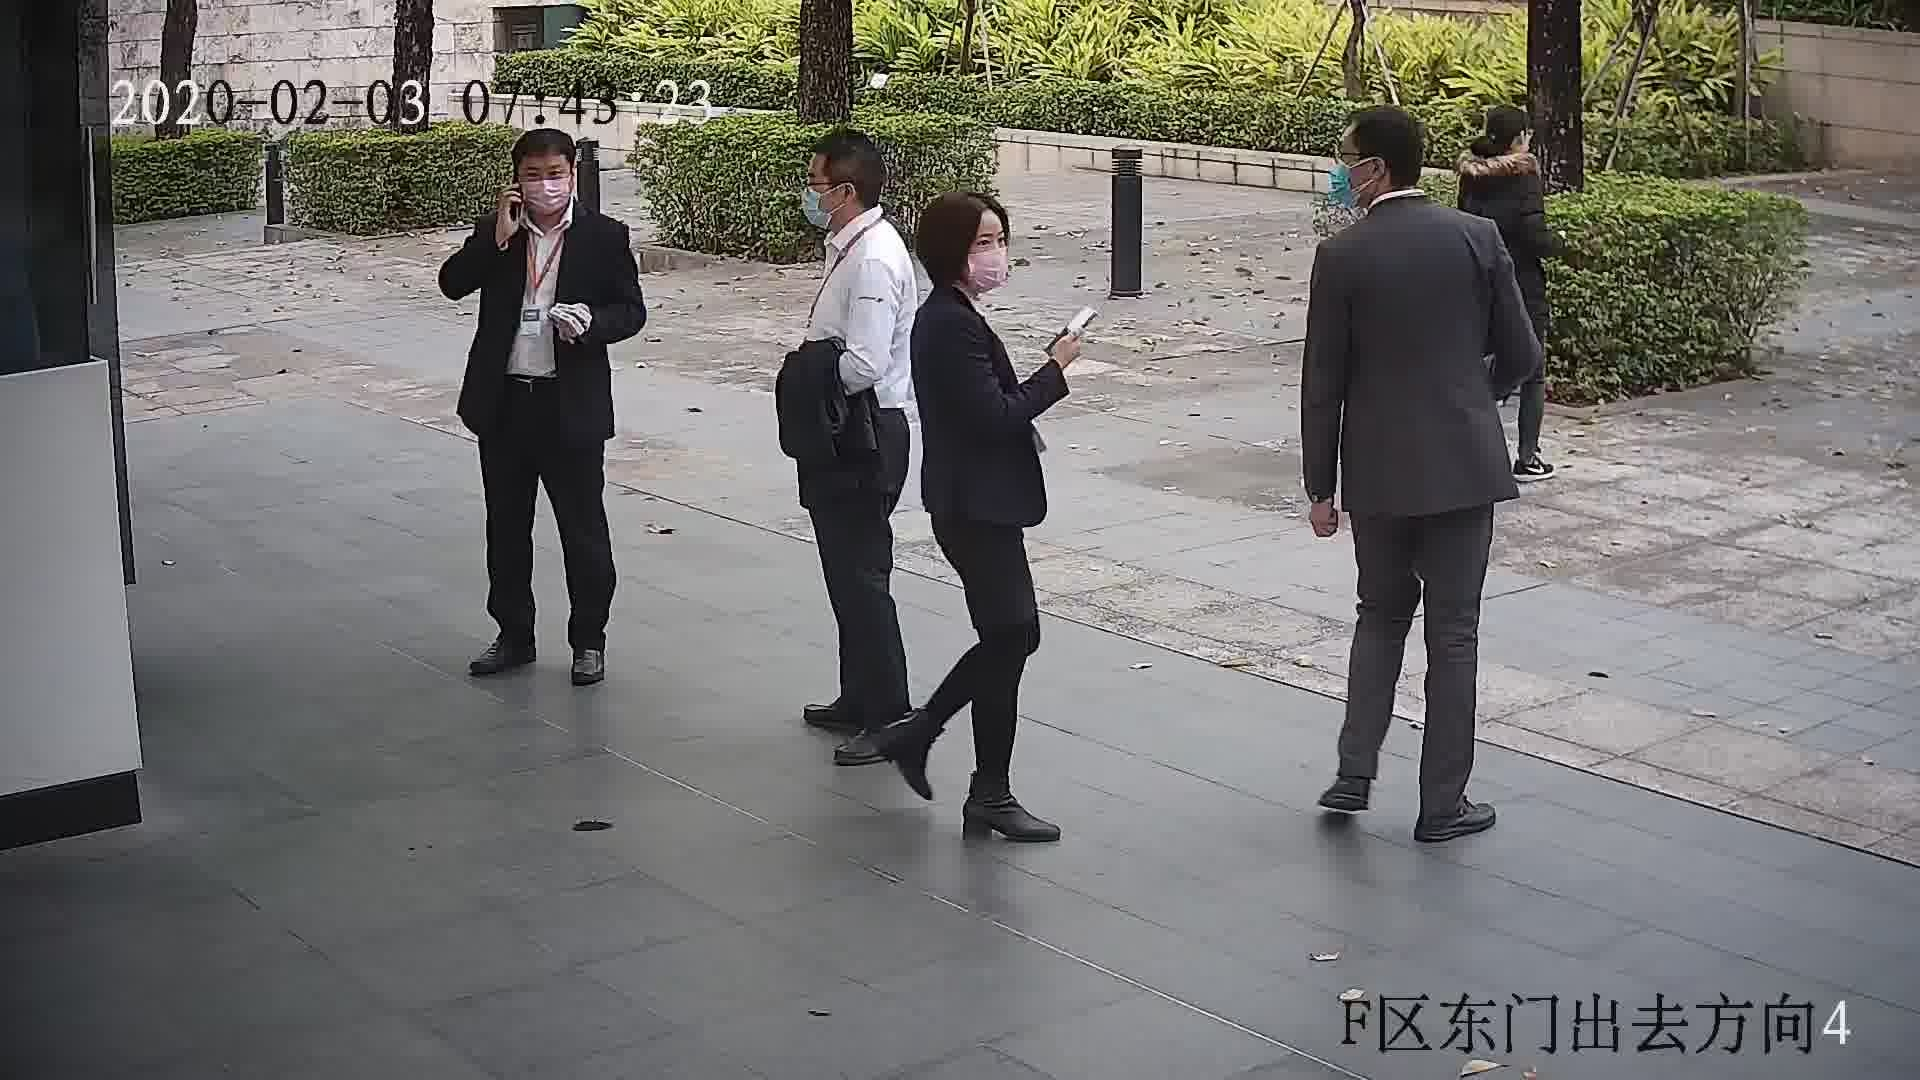face: (963, 207, 1016, 298), (506, 152, 574, 219), (799, 145, 846, 231), (1332, 129, 1375, 208)
mask: (968, 245, 1010, 295), (518, 178, 573, 215), (1326, 158, 1362, 211), (798, 186, 837, 231)
person: (1312, 110, 1505, 272), (473, 129, 631, 257), (913, 190, 1024, 356), (807, 131, 913, 271), (1463, 104, 1550, 193)
